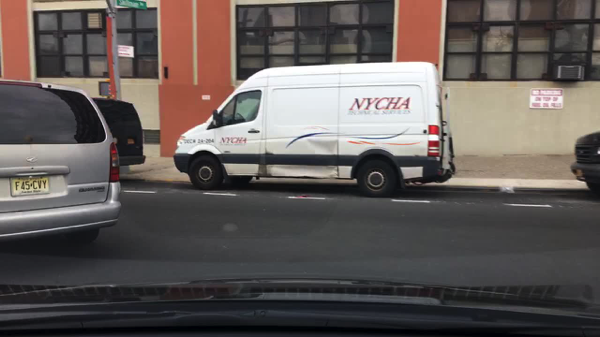car: (173, 60, 456, 198), (0, 79, 123, 249), (89, 95, 146, 167), (569, 129, 598, 199)
traffic light: (97, 81, 112, 97)
traffic sign: (117, 1, 147, 11), (117, 45, 134, 59)
